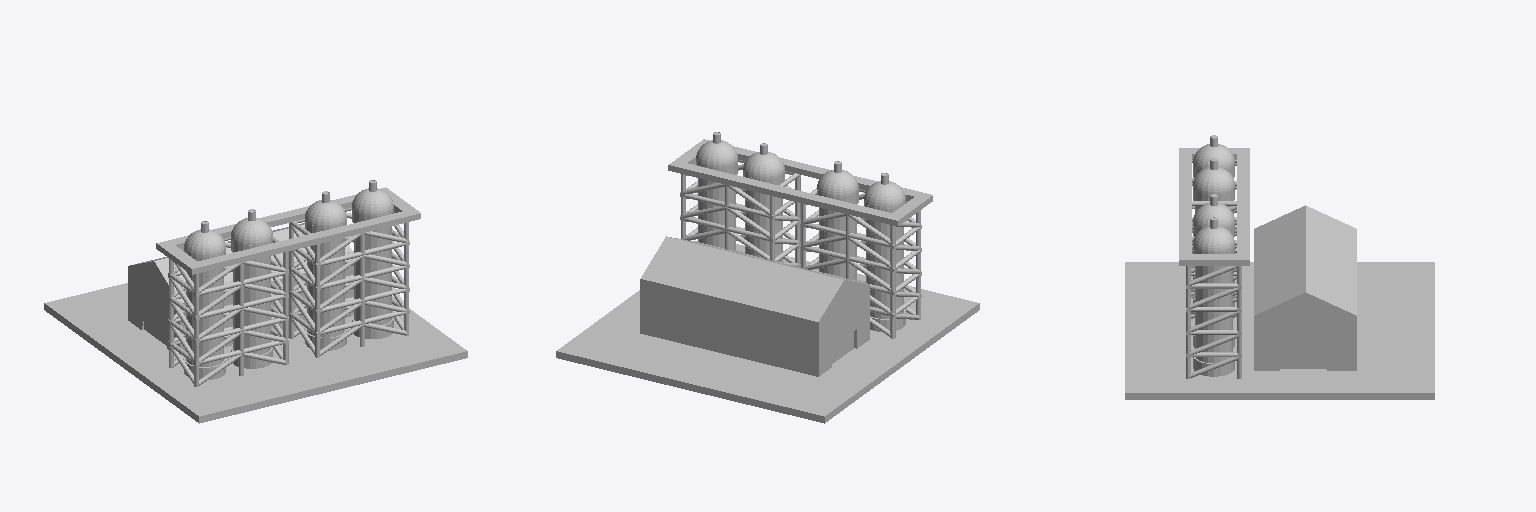
File: Planta de Coque.obj
3 renders of one model, left to right at view 1: azimuth 30°, elevation 25°; view 2: azimuth 150°, elevation 25°; view 3: azimuth 270°, elevation 25°, orthographic.
Visible parts, largest first — view 1: Floor, Plank1 Planks, MainBuilding MainBuilding BuildingInterior, CokeFuelPipe PipeMid1, CokeFuelPipe3 PipeMid3, CokeFuelPipe4 PipeMid4, CokeFuelPipe2 PipeMid2, MainBuilding BuildingExterior MainBuilding, Planks Plank2, CokeFuelPipe CylinderTop1, CokeFuelPipe4 CylinderTop4, CokeFuelPipe2 CylinderTop2 (+1 smaller); view 2: Floor, MainBuilding BuildingExterior MainBuilding, MainBuilding MainBuilding BuildingInterior, Planks Plank2, CokeFuelPipe4 PipeMid4, CokeFuelPipe3 PipeMid3, CokeFuelPipe PipeMid1, CokeFuelPipe2 PipeMid2, Plank1 Planks, CokeFuelPipe2 CylinderTop2, CokeFuelPipe4 CylinderTop4, CokeFuelPipe CylinderTop1 (+2 smaller); view 3: Floor, MainBuilding BuildingExterior MainBuilding, MainBuilding MainBuilding BuildingInterior, CokeFuelPipe PipeMid1, Planks Plank2, Plank1 Planks, CokeFuelPipe CylinderTop1, CokeFuelPipe3 CylinderTop3, CokeFuelPipe2 CylinderTop2, CokeFuelPipe4 CylinderTop4, Planks Plank4.
Part boxes in pixels (bbox=[...]): Floor: bbox=[44, 283, 467, 423]; Plank1 Planks: bbox=[185, 209, 420, 274]; MainBuilding MainBuilding BuildingInterior: bbox=[128, 261, 179, 353]; CokeFuelPipe PipeMid1: bbox=[354, 226, 391, 324]; CokeFuelPipe3 PipeMid3: bbox=[233, 256, 270, 354]; CokeFuelPipe4 PipeMid4: bbox=[186, 267, 223, 366]; CokeFuelPipe2 PipeMid2: bbox=[307, 238, 344, 337]; MainBuilding BuildingExterior MainBuilding: bbox=[134, 223, 353, 354]; Planks Plank2: bbox=[156, 188, 391, 252]; CokeFuelPipe CylinderTop1: bbox=[352, 188, 393, 215]; CokeFuelPipe4 CylinderTop4: bbox=[184, 229, 225, 256]; CokeFuelPipe2 CylinderTop2: bbox=[305, 200, 346, 227]; Floor: bbox=[556, 244, 979, 423]; MainBuilding BuildingExterior MainBuilding: bbox=[640, 236, 865, 376]; MainBuilding MainBuilding BuildingInterior: bbox=[819, 280, 869, 375]; Planks Plank2: bbox=[668, 161, 903, 226]; CokeFuelPipe4 PipeMid4: bbox=[866, 219, 903, 318]; CokeFuelPipe3 PipeMid3: bbox=[819, 208, 856, 280]; CokeFuelPipe PipeMid1: bbox=[698, 178, 735, 250]; CokeFuelPipe2 PipeMid2: bbox=[745, 190, 782, 261]; Plank1 Planks: bbox=[699, 139, 932, 200]; CokeFuelPipe2 CylinderTop2: bbox=[743, 152, 784, 179]; CokeFuelPipe4 CylinderTop4: bbox=[864, 181, 905, 208]; CokeFuelPipe CylinderTop1: bbox=[696, 140, 737, 167]; Floor: bbox=[1125, 262, 1434, 399]; MainBuilding BuildingExterior MainBuilding: bbox=[1254, 205, 1356, 315]; MainBuilding MainBuilding BuildingInterior: bbox=[1254, 292, 1356, 370]; CokeFuelPipe PipeMid1: bbox=[1195, 266, 1232, 363]; Planks Plank2: bbox=[1237, 148, 1249, 265]; Plank1 Planks: bbox=[1179, 148, 1191, 265]; CokeFuelPipe CylinderTop1: bbox=[1193, 226, 1234, 253]; CokeFuelPipe3 CylinderTop3: bbox=[1193, 167, 1234, 194]; CokeFuelPipe2 CylinderTop2: bbox=[1193, 203, 1234, 228]; CokeFuelPipe4 CylinderTop4: bbox=[1193, 144, 1234, 169]; Planks Plank4: bbox=[1179, 254, 1249, 265].
Size of the model in its own units: 20 by 11.12 by 20.